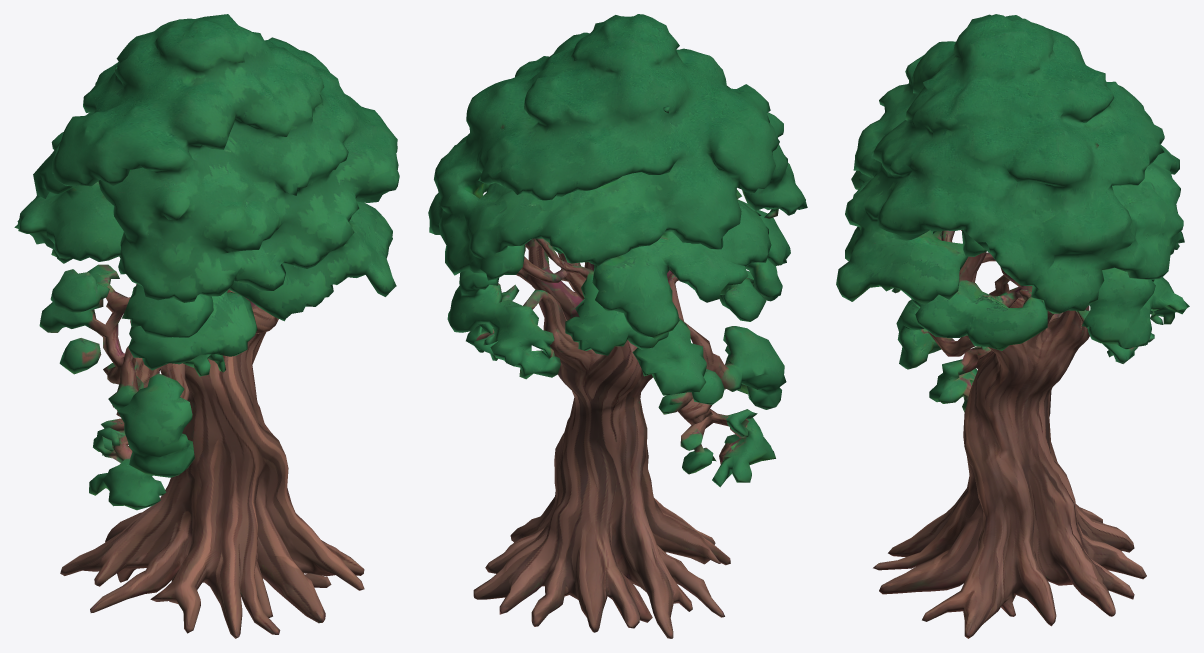
File: forest_tree_dark_oak.glb
3 views of the same model, side by side, from view 1: azimuth 30°, elevation 25°; view 2: azimuth 150°, elevation 25°; view 3: azimuth 270°, elevation 25° (orthographic). The views are drawn at different scales.
Size of the model in its own units: 1.14 by 1.91 by 1.1.
1 material, 1 textured.
